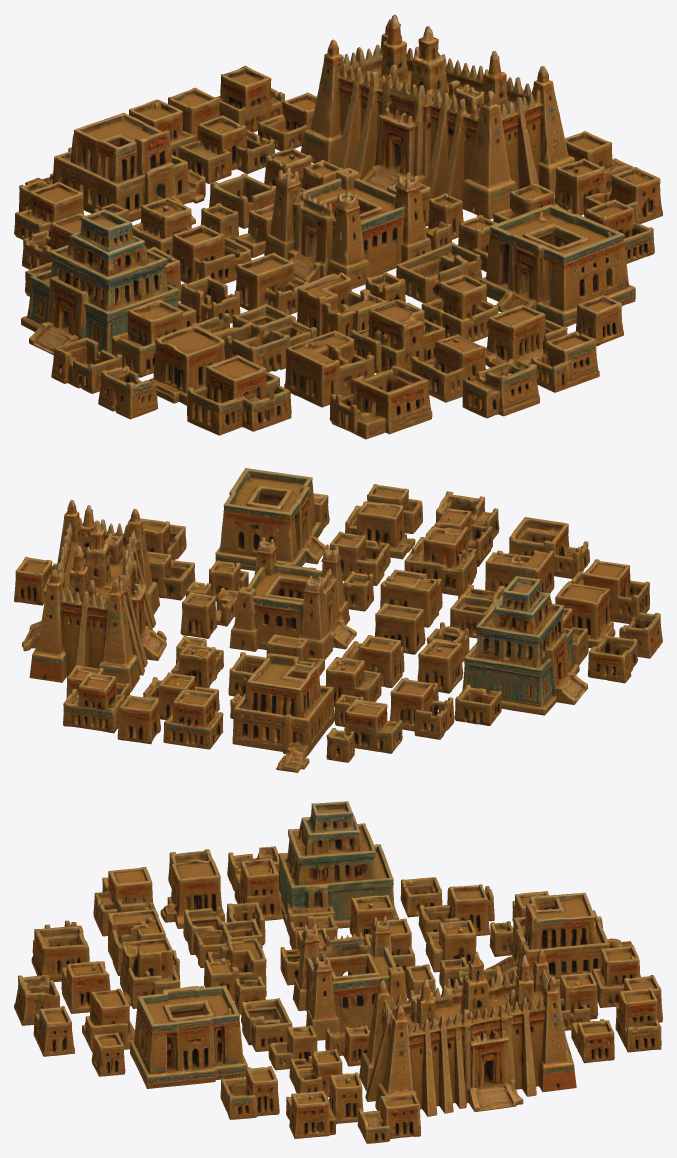
The model's file is Enlightenment City (West African).fbx.
3 renders of one model, top to bottom at view 1: azimuth 30°, elevation 25°; view 2: azimuth 150°, elevation 25°; view 3: azimuth 270°, elevation 25°, orthographic. The views are drawn at different scales.
Parts seen in each view (by area): view 1: tripo_node_1f5dfa37; view 2: tripo_node_1f5dfa37; view 3: tripo_node_1f5dfa37.
Part boxes in pixels (bbox=[...]): tripo_node_1f5dfa37: bbox=[14, 14, 662, 439]; tripo_node_1f5dfa37: bbox=[14, 468, 662, 772]; tripo_node_1f5dfa37: bbox=[14, 801, 662, 1143].
Size of the model in its own units: 1 by 0.233 by 0.9979.
